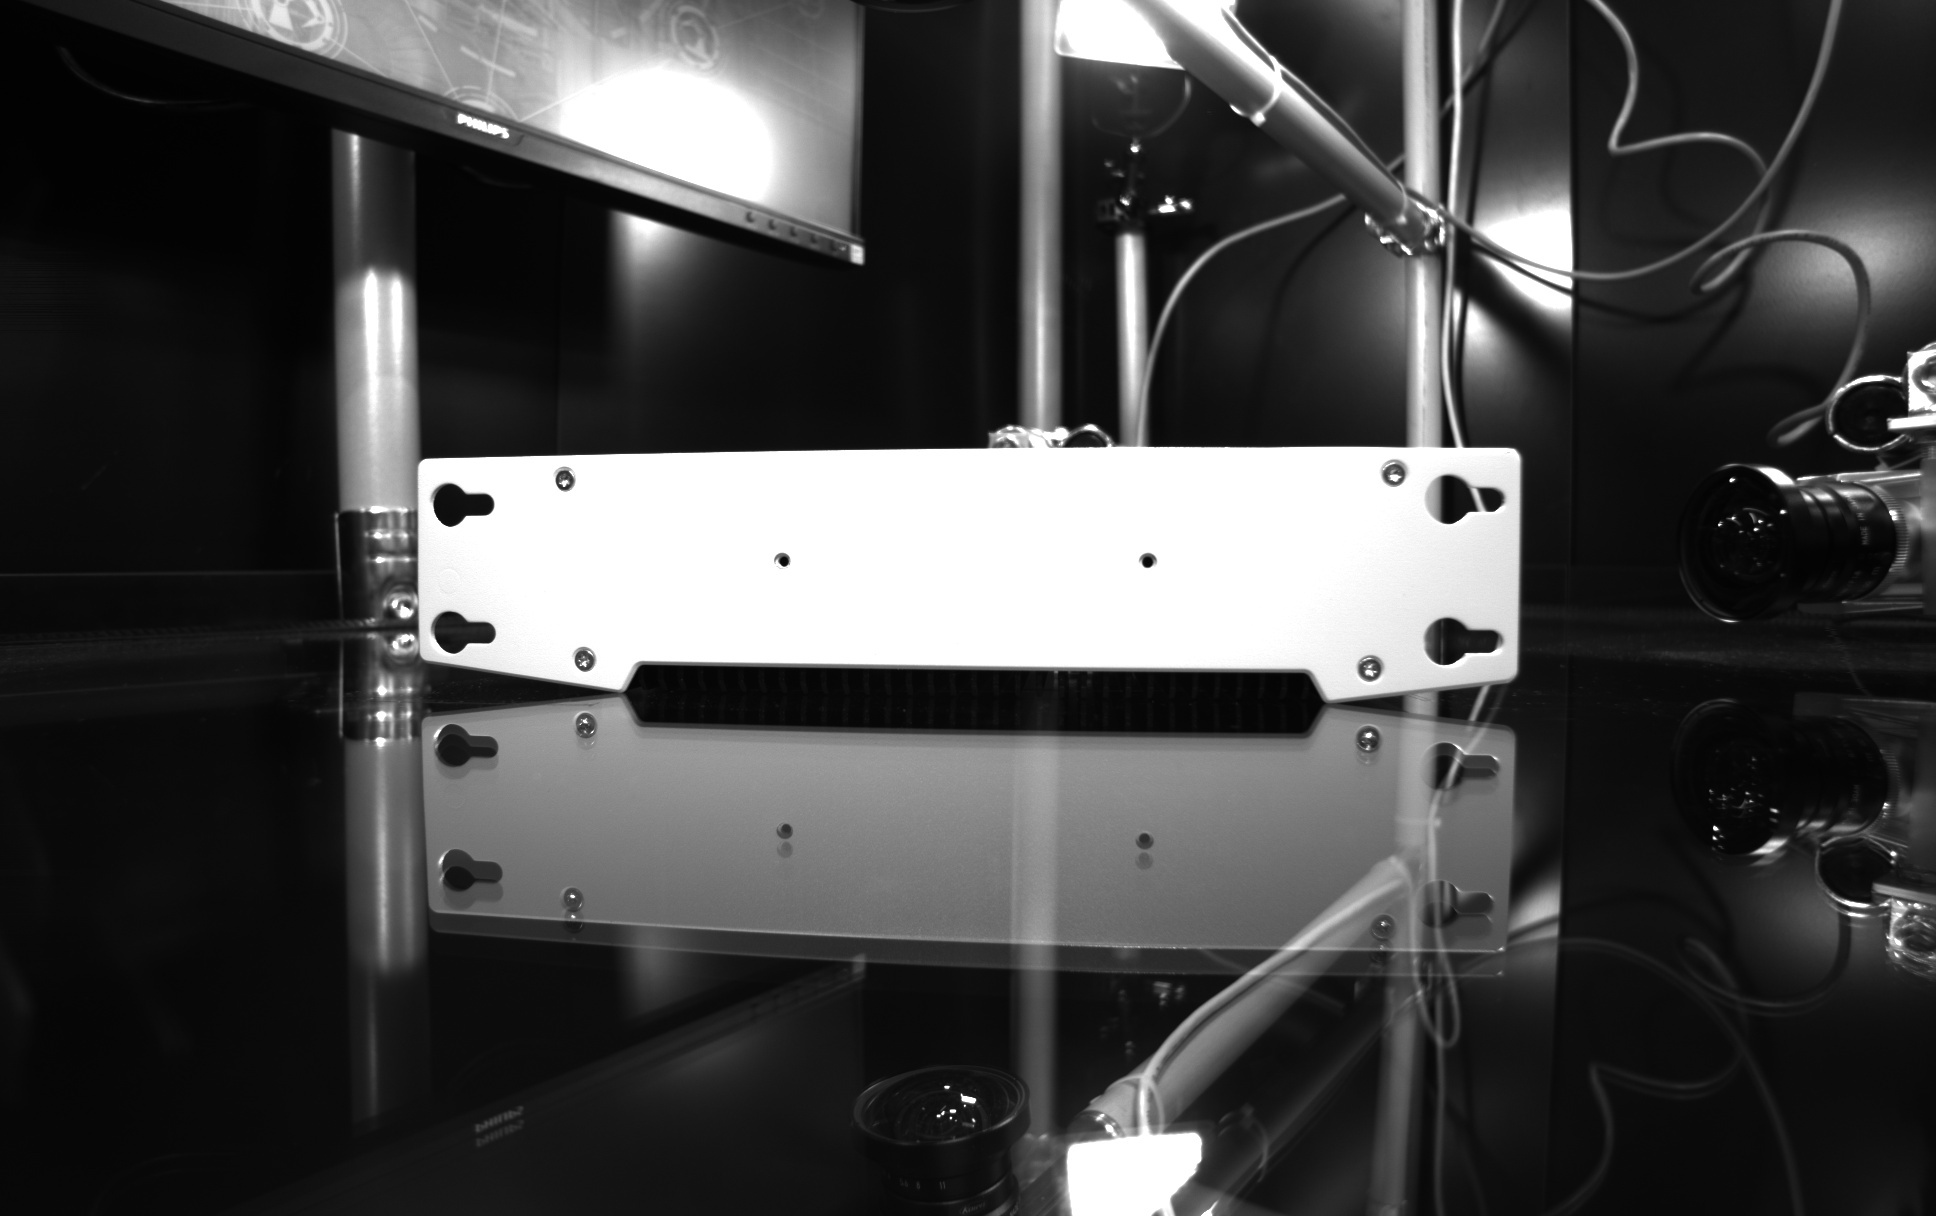CamBack: (380, 417, 1555, 709)
Schraube: (544, 461, 583, 502), (565, 637, 604, 678), (1352, 649, 1391, 689), (1376, 457, 1413, 496)
Schraube_gespiegelt: (1360, 908, 1405, 975), (1341, 720, 1392, 772), (560, 706, 608, 756), (552, 878, 591, 939)
